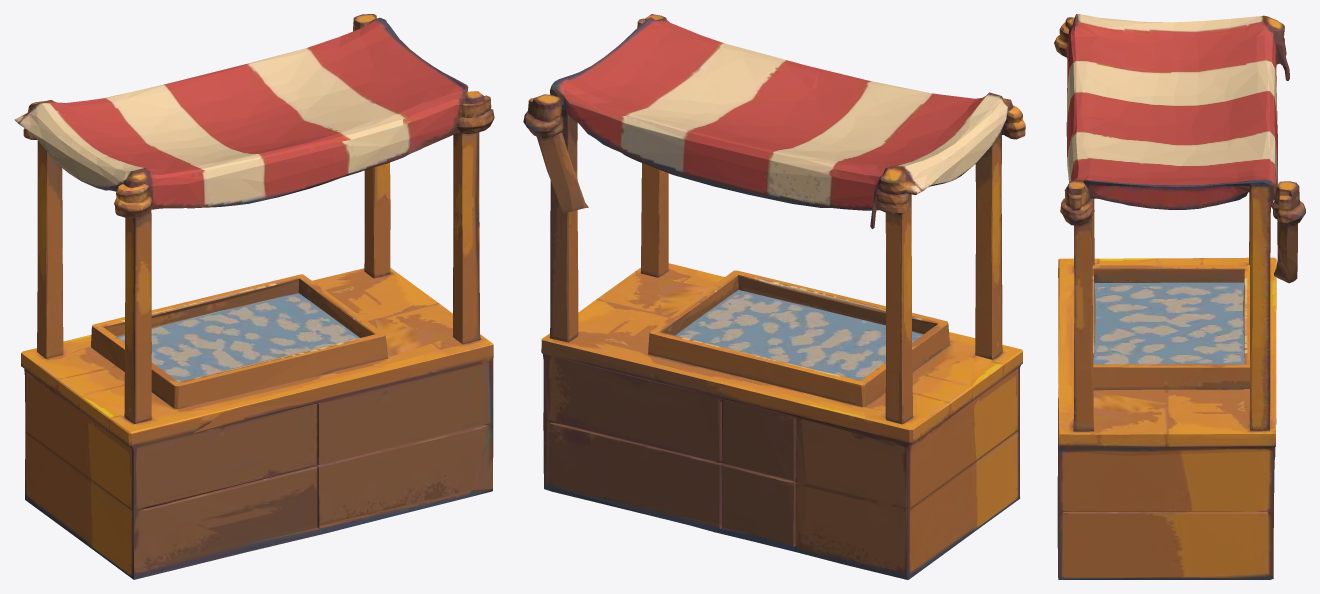
The model's file is bancarella.glb.
3 renders of one model, left to right at view 1: azimuth 30°, elevation 25°; view 2: azimuth 150°, elevation 25°; view 3: azimuth 270°, elevation 25°, orthographic. The views are drawn at different scales.
Parts seen in each view (by area): view 1: geometry_0; view 2: geometry_0; view 3: geometry_0.
Boxes of the visible parts, x1=… form: geometry_0: x1=14, y1=14, x2=494, y2=579; geometry_0: x1=523, y1=14, x2=1025, y2=579; geometry_0: x1=1054, y1=14, x2=1305, y2=579.
Size of the model in its own units: 2.78 by 2.78 by 1.6.
Materials: 1 (1 with a texture image).
